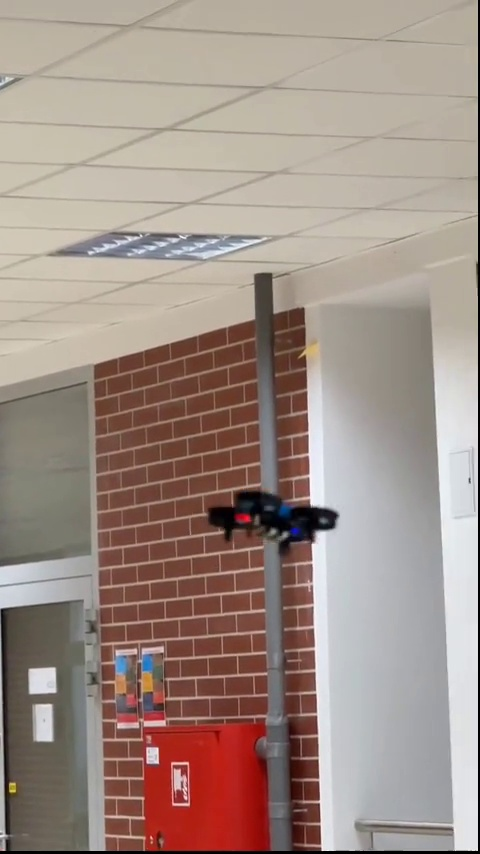drone: (206, 488, 335, 554)
